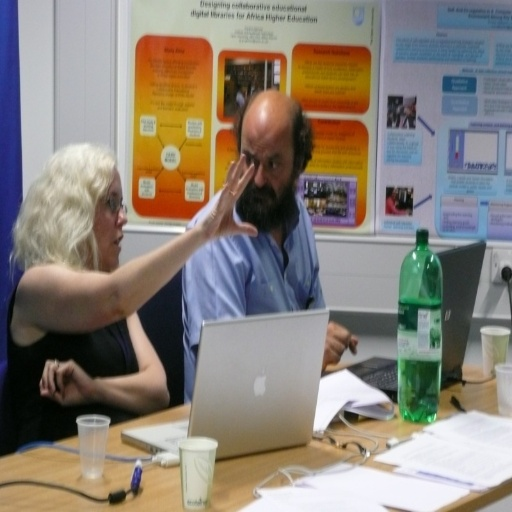hand: (196, 151, 259, 240), (33, 358, 94, 415), (323, 320, 359, 366)
